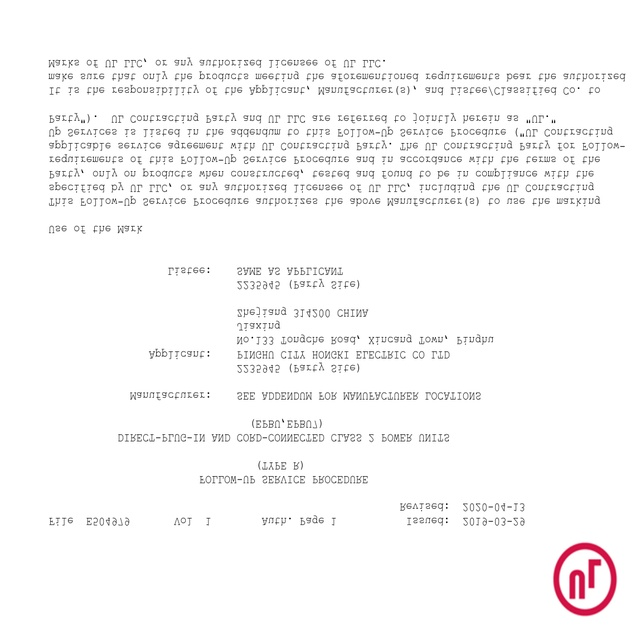ul: (552, 540, 618, 616)
